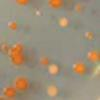orange: (14, 76, 31, 90), (86, 49, 100, 65), (70, 62, 85, 75), (2, 86, 16, 99), (48, 0, 64, 9), (47, 86, 59, 97), (8, 21, 18, 34), (5, 47, 16, 58), (59, 17, 69, 29), (1, 42, 10, 54), (13, 52, 22, 64), (13, 0, 30, 6), (49, 63, 58, 74), (8, 42, 21, 49), (38, 55, 48, 64), (83, 33, 93, 42), (74, 4, 82, 11)
